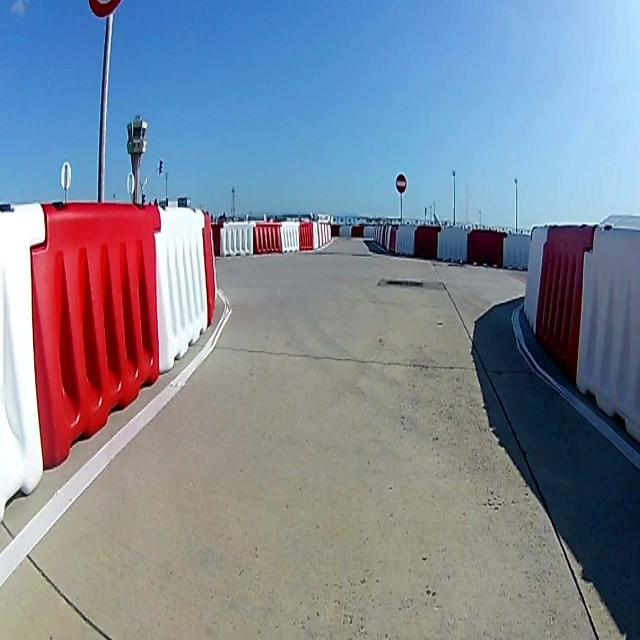girisyok: (396, 174, 406, 193)
